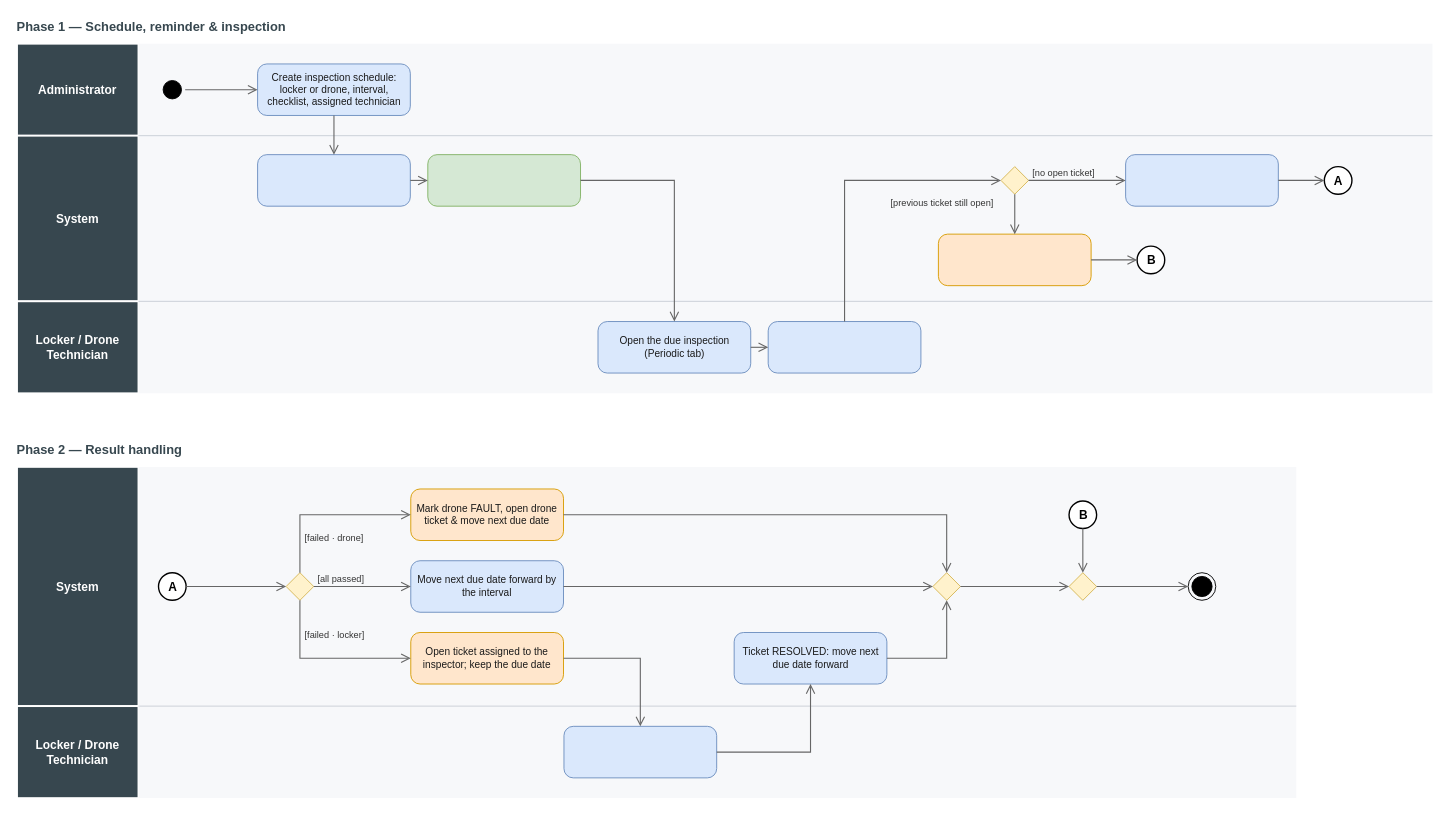
This 1448x814 diagram has some shape labels left out. Each missing label, with the centre of its shape:
Daily 07:00: find due schedules & notify the assigned technician: (x=504, y=180)
Handle the ticket (as in Report Incident & Repair): (x=640, y=751)
Mark each item PASS / FAIL / N/A, add note & photos, submit: (x=844, y=347)
Reject: previous failed inspection still has an open ticket: (x=1014, y=259)
Save inspection log; result FAILED if any item fails: (x=1201, y=180)
Save schedule & set next due date: (x=333, y=180)
